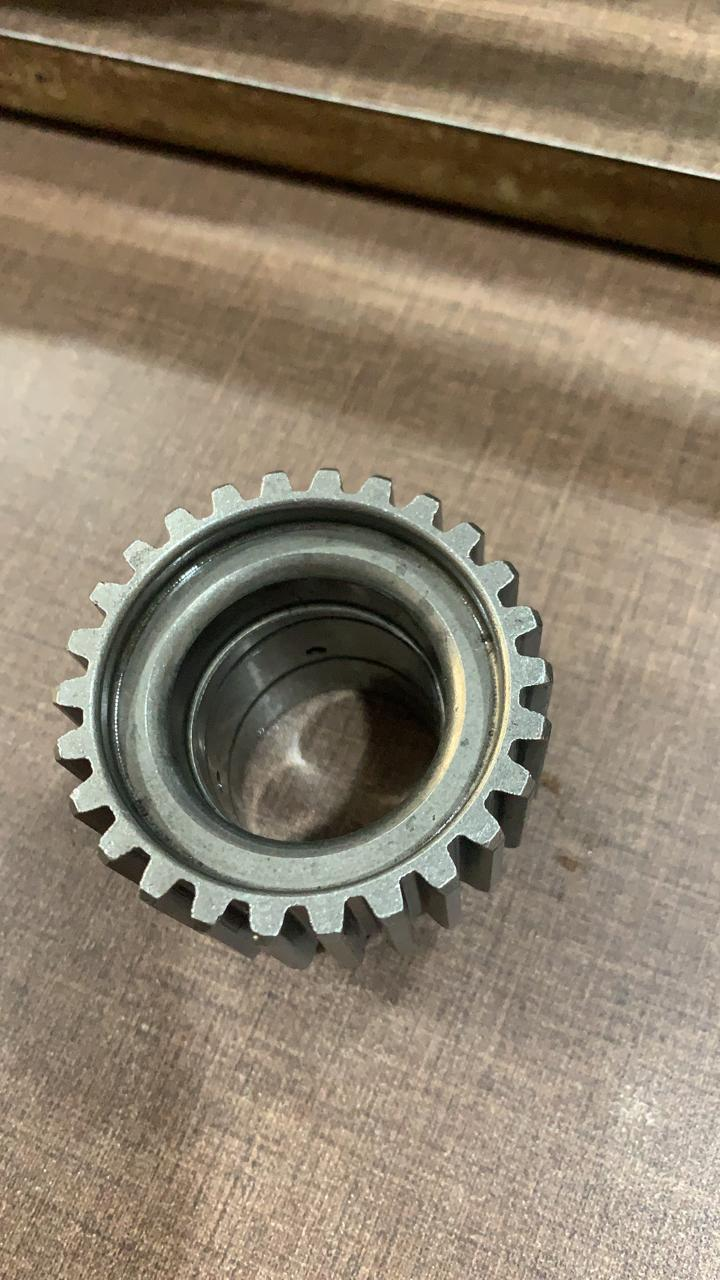engine gear ape: (33, 430, 606, 993)
